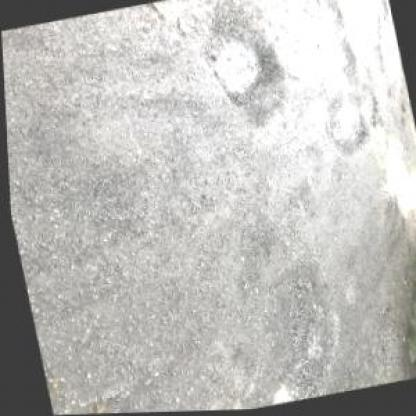pothole: (193, 7, 291, 130), (319, 86, 373, 162), (293, 0, 348, 40), (330, 38, 361, 84)
